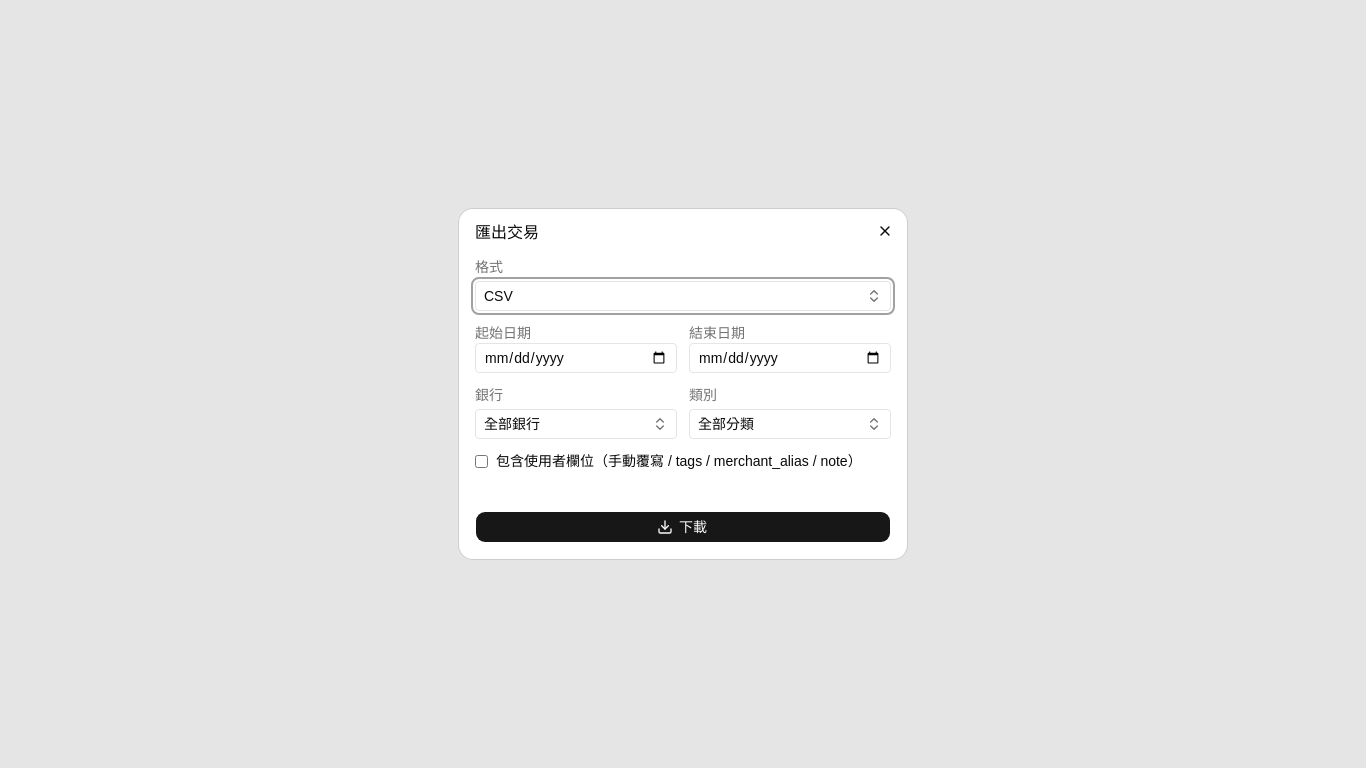
ExportDialog › renders bank select fed by settings banks query with 全部銀行 first
SelectField (base-ui): options live in a portal listbox, rendered on open.
Click the dropdown labelled "銀行" at [576, 424], box [475,409,677,439]
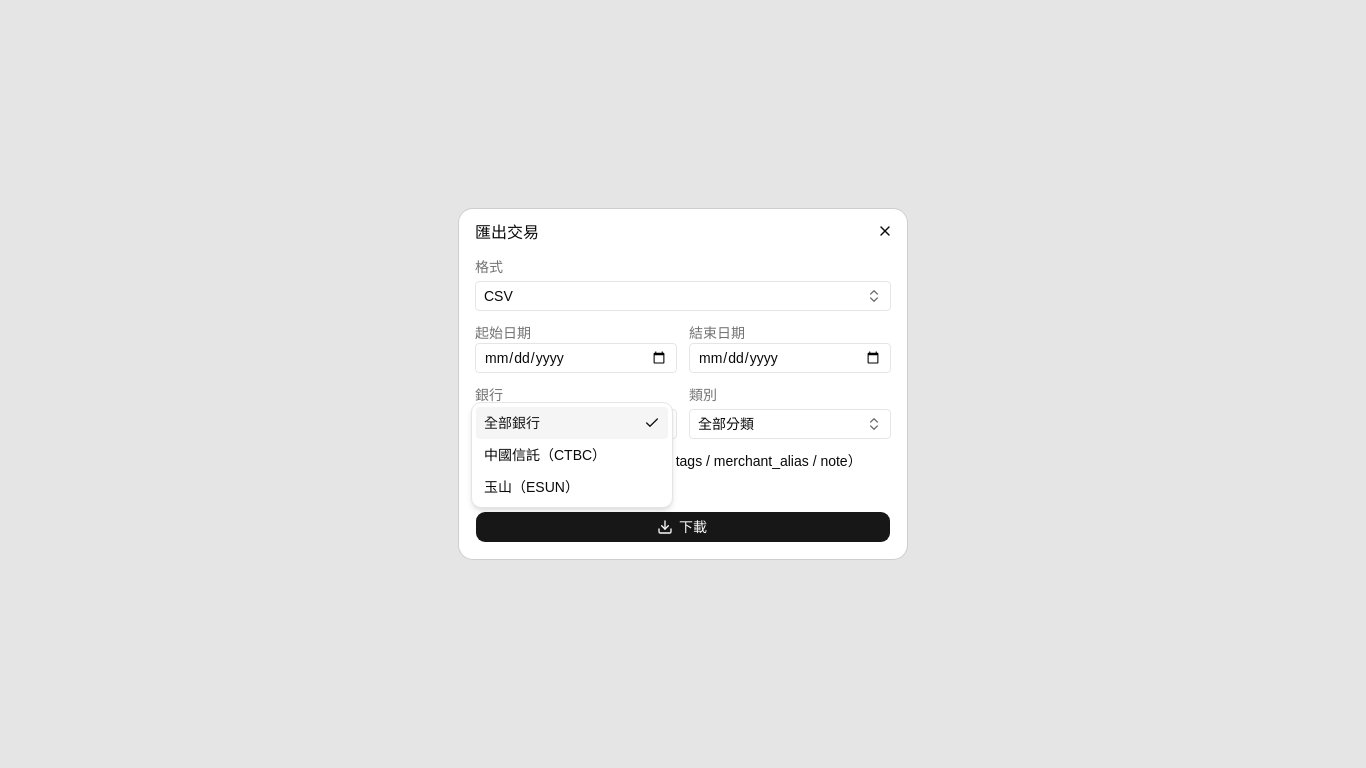
Expected: the text "全部銀行" below "類別" is shown, [484,416,540,432]
Result: the text "中國信託（CTBC）" is shown at [484,445,606,465]
Result: the text "玉山（ESUN）" is shown at [484,477,579,497]
